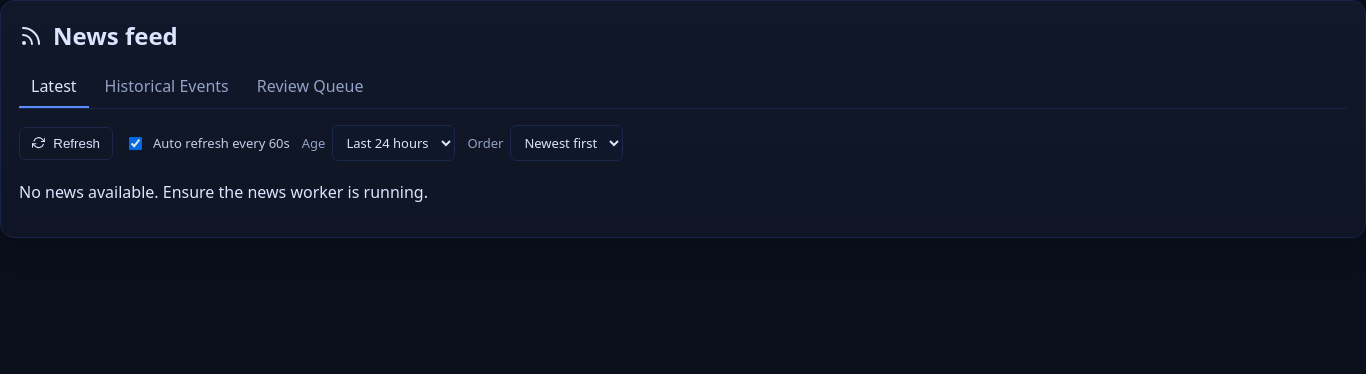
Test: NewsFeed › searches the separate historical GDELT event collection
This screenshot has width=1366, height=374.
Expected: the text "No news available. Ensure the news worker is running." is shown, [19,181,428,203]
Click the tab "Historical Events" at (167, 87), box [93,66,241,108]
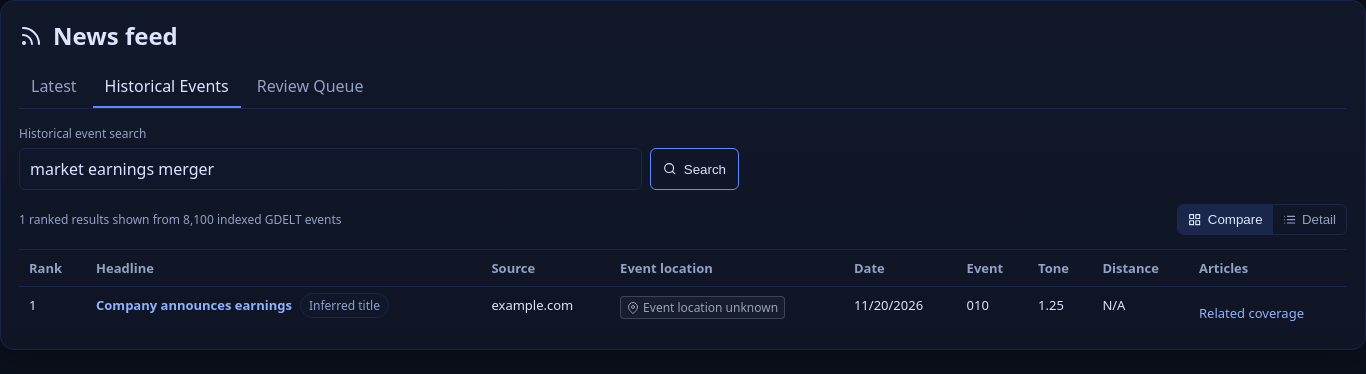
Result: the link "Company announces earnings" is shown at [96,296,292,314]
Result: the text "Inferred title" is shown at [300,293,389,318]
Result: the text "1 ranked results shown from 8,100 indexed GDELT events" is shown at [19,211,342,228]
